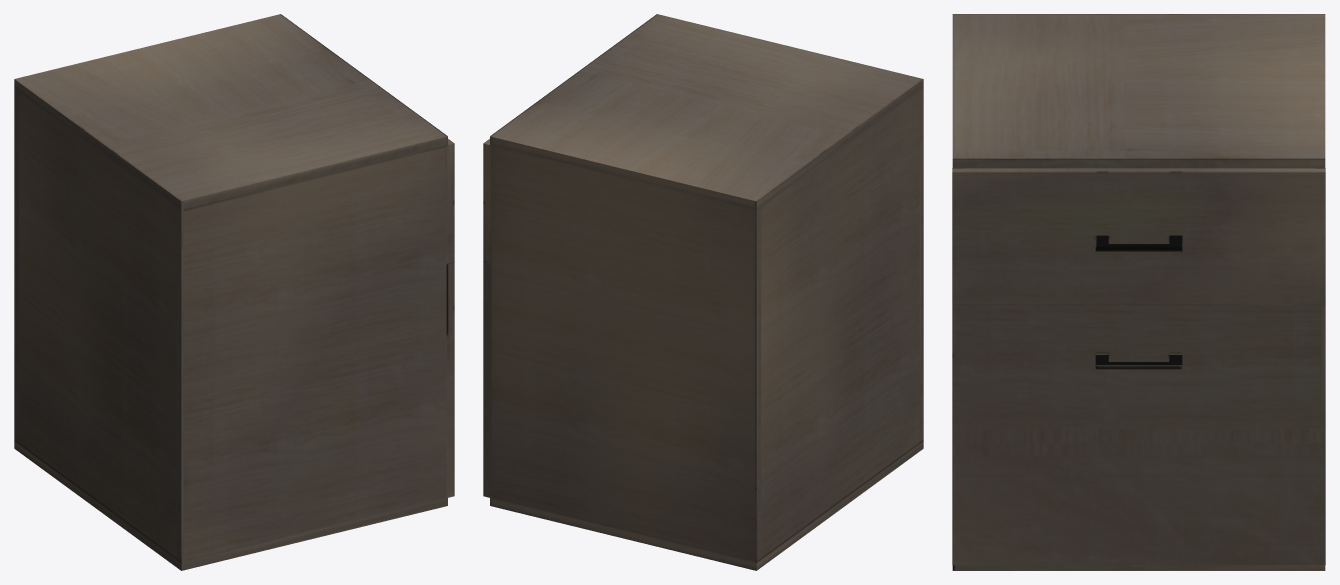
Rendered from UnderTable.fbx.
3 renders of one model, left to right at view 1: azimuth 30°, elevation 25°; view 2: azimuth 150°, elevation 25°; view 3: azimuth 270°, elevation 25°, orthographic. The views are drawn at different scales.
Visible parts, largest first — view 1: Box, LargeCase, SmallCase; view 2: Box, LargeCase, SmallCase; view 3: LargeCase, Box, SmallCase.
Part boxes in pixels (bbox=[...]): Box: bbox=[14, 14, 447, 570]; LargeCase: bbox=[446, 262, 454, 497]; SmallCase: bbox=[446, 139, 454, 264]; Box: bbox=[490, 14, 923, 570]; LargeCase: bbox=[483, 262, 491, 497]; SmallCase: bbox=[483, 139, 491, 263]; LargeCase: bbox=[952, 304, 1325, 565]; Box: bbox=[952, 14, 1325, 570]; SmallCase: bbox=[952, 168, 1325, 304].
Size of the model in its own units: 55.24 by 66.37 by 54.53.
